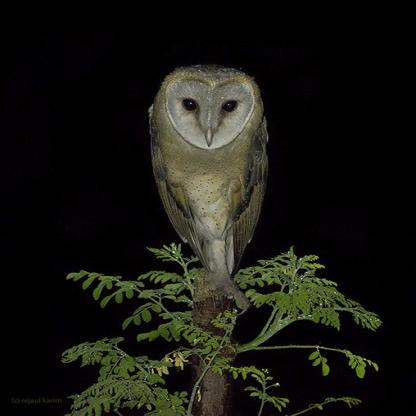Burung: (142, 61, 271, 303)
